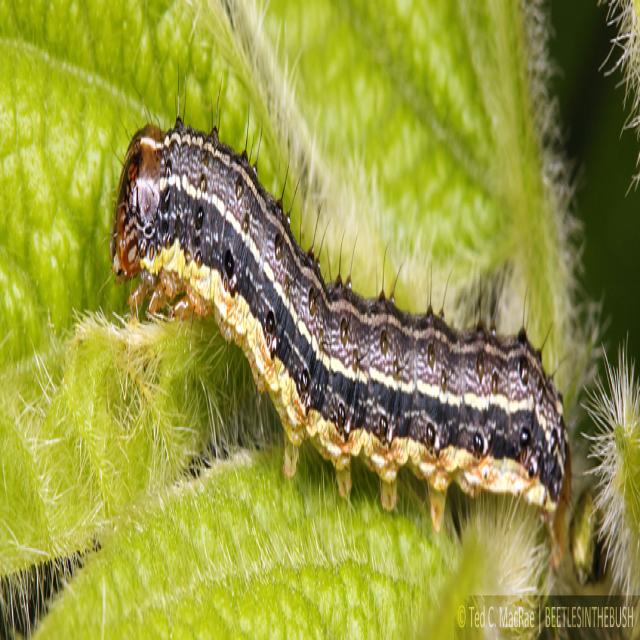worm: (109, 65, 573, 548)
